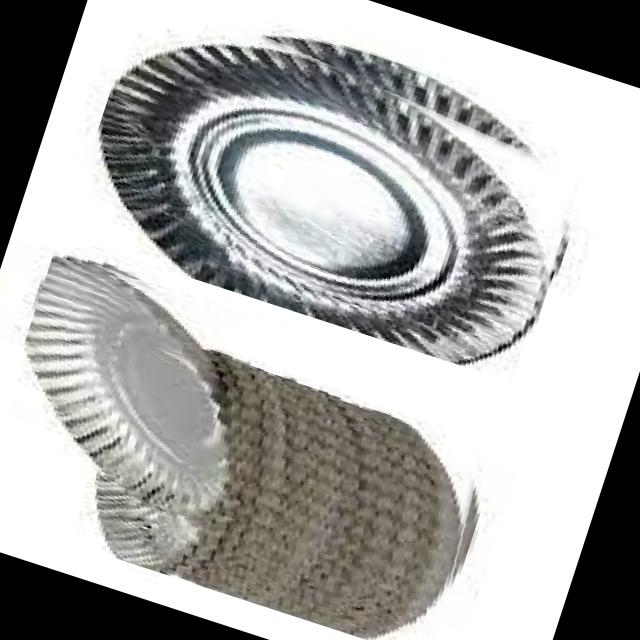PaperCardboard: (25, 256, 455, 640), (98, 45, 545, 366)
